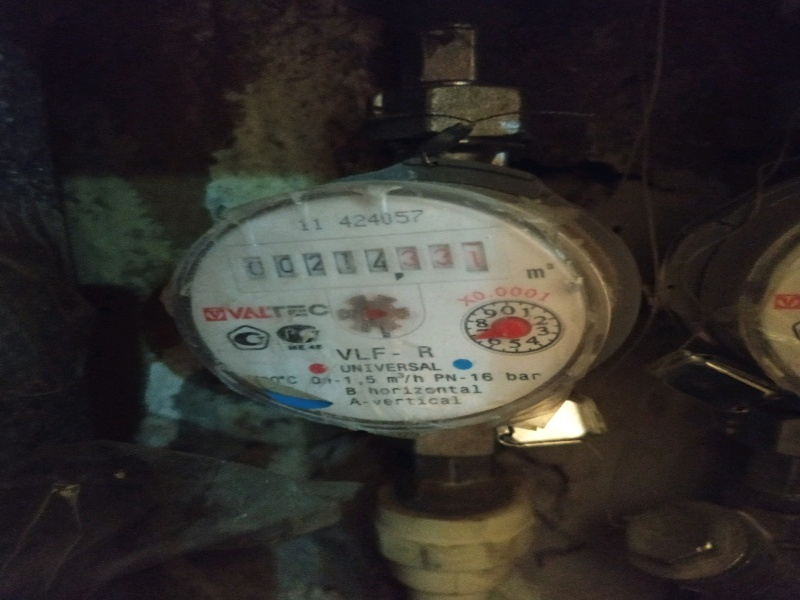meter: (231, 234, 491, 282)
